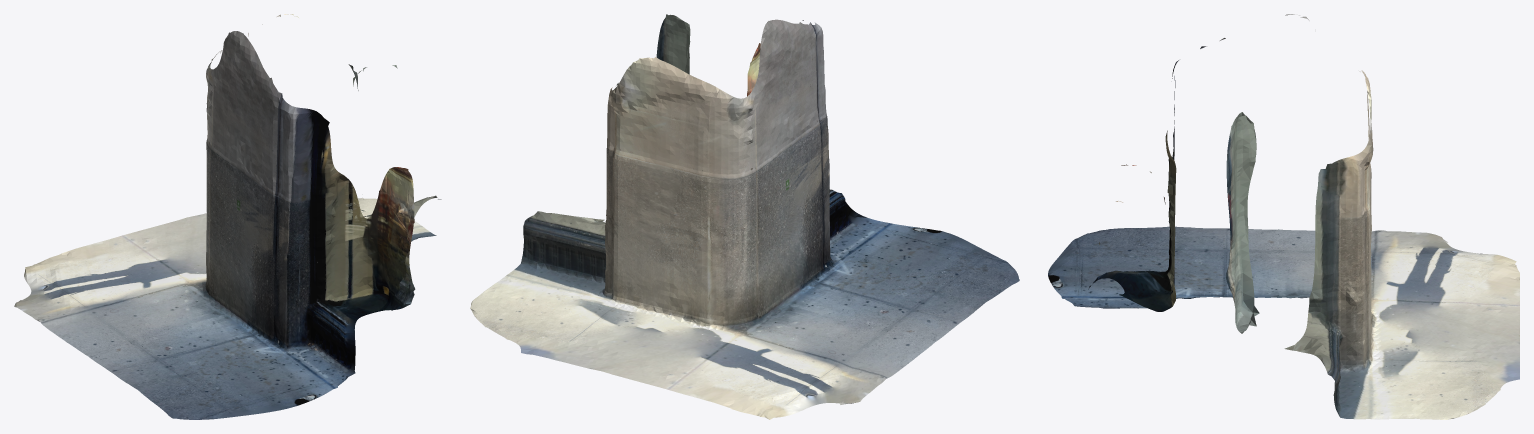
3 views of the same model, side by side, from view 1: azimuth 30°, elevation 25°; view 2: azimuth 150°, elevation 25°; view 3: azimuth 270°, elevation 25° (orthographic). The views are drawn at different scales.
Bounding box in the file's own units: 4.82 × 3.49 × 4.92.
Materials: 1 (1 with a texture image).
